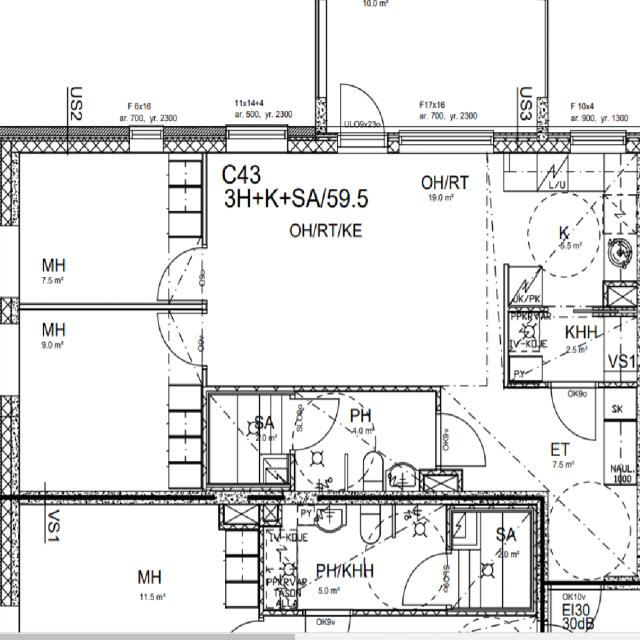door: (341, 75, 385, 153), (551, 576, 601, 640), (157, 313, 207, 367), (551, 380, 596, 438), (436, 413, 485, 466), (158, 248, 207, 300), (290, 399, 338, 449)
